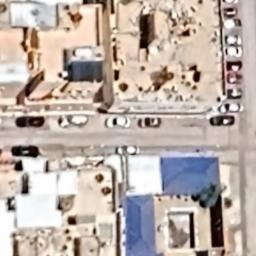others: (56, 113, 92, 130)
sedan: (208, 113, 238, 129), (12, 116, 48, 128), (104, 115, 132, 130)
unknown: (10, 143, 43, 160), (112, 142, 144, 158), (217, 100, 248, 114), (139, 114, 163, 130), (222, 45, 248, 58), (224, 87, 246, 101), (223, 60, 245, 72), (224, 74, 247, 84), (225, 33, 243, 45)
